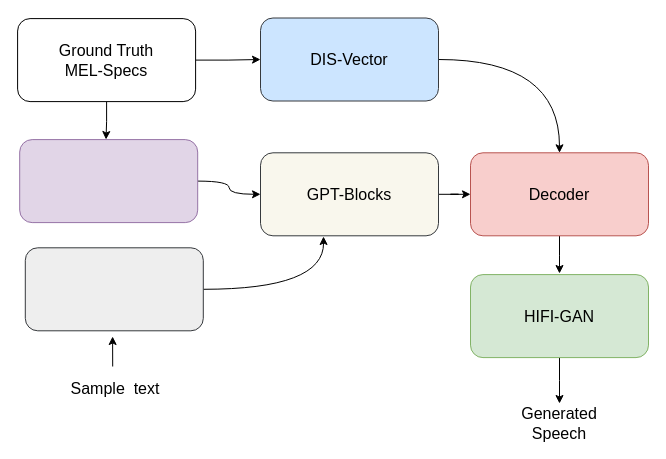
Some shapes in this 666 by 459 pixel diagram are drawn without their labels. The centre of each missing label's shape, as x and y in pixels:
"Tokenizer" belongs at (113,289).
"VQ-VAE" belongs at (108,181).
